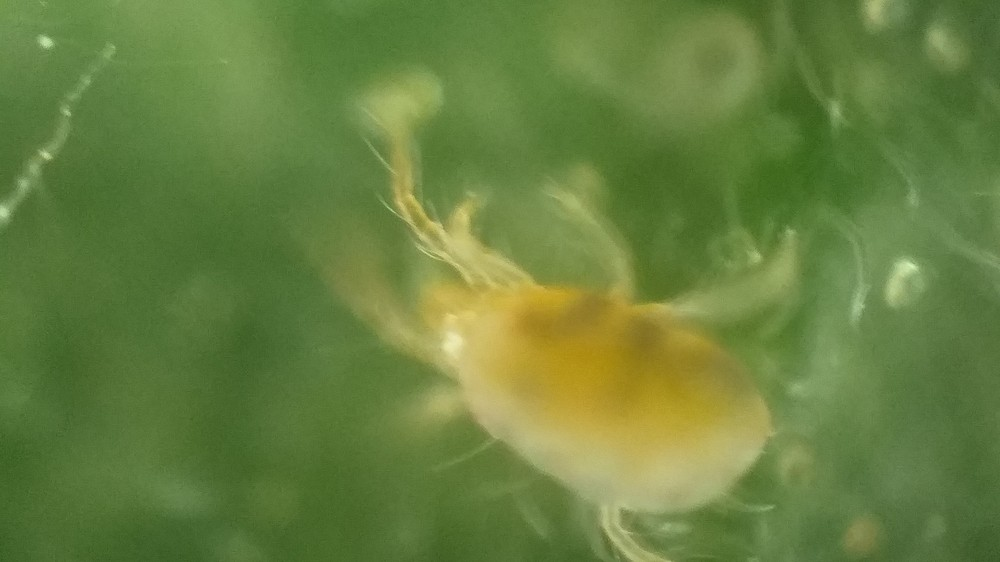Aracnido Rojo: (314, 133, 841, 546)
